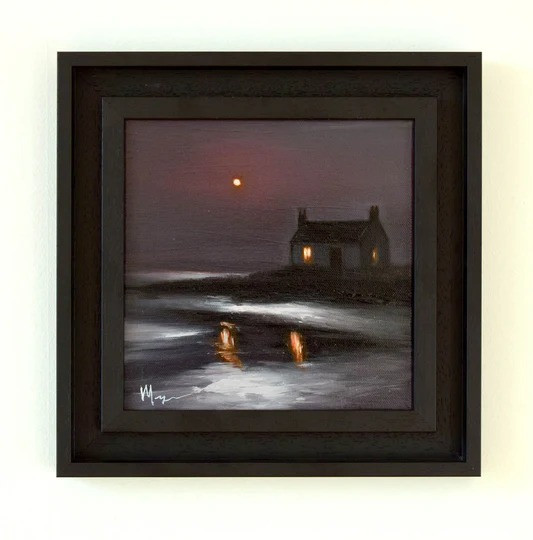painting: (124, 119, 413, 411)
